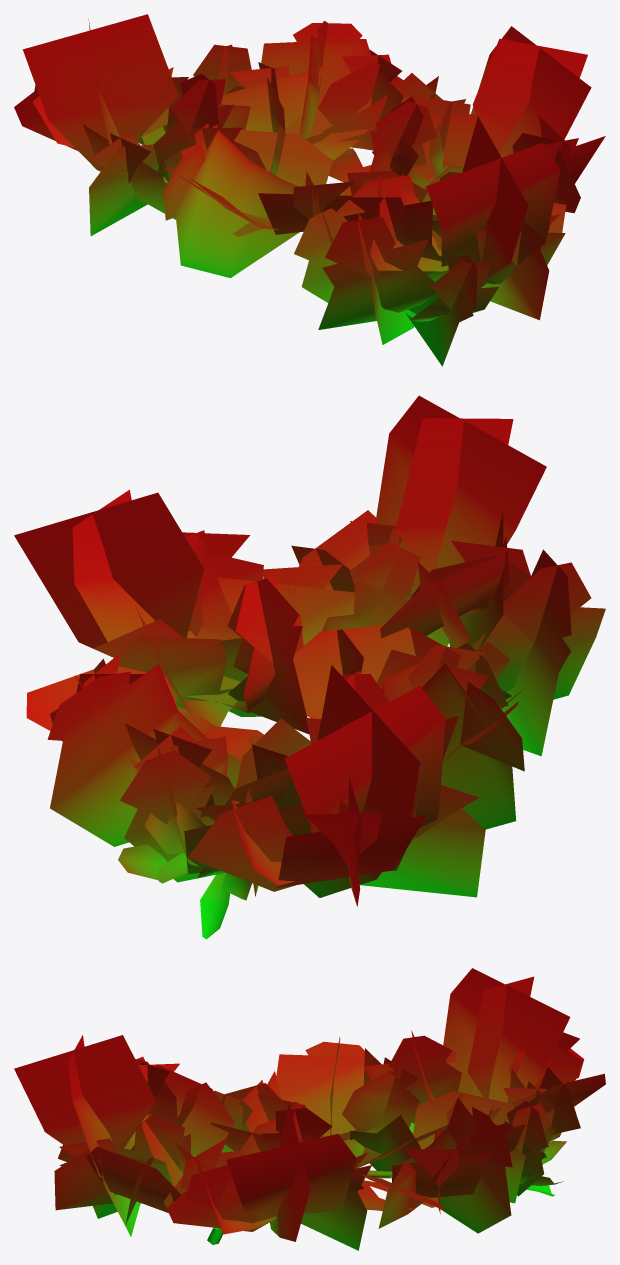
Rendered from Alpine Bearberry_LOD4_Var2_xb0gdazqx.fbx.
3 views of the same model, one above another, from view 1: azimuth 30°, elevation 25°; view 2: azimuth 150°, elevation 25°; view 3: azimuth 270°, elevation 25° (orthographic). The views are drawn at different scales.
Parts seen in each view (by area): view 1: _yssw_Var2_LOD4; view 2: _yssw_Var2_LOD4; view 3: _yssw_Var2_LOD4.
Part boxes in pixels (x1,y1,x2,y2): _yssw_Var2_LOD4: [14, 14, 605, 366]; _yssw_Var2_LOD4: [14, 395, 605, 939]; _yssw_Var2_LOD4: [14, 968, 605, 1250].
Size of the model in its own units: 34.43 by 17.59 by 44.49.
